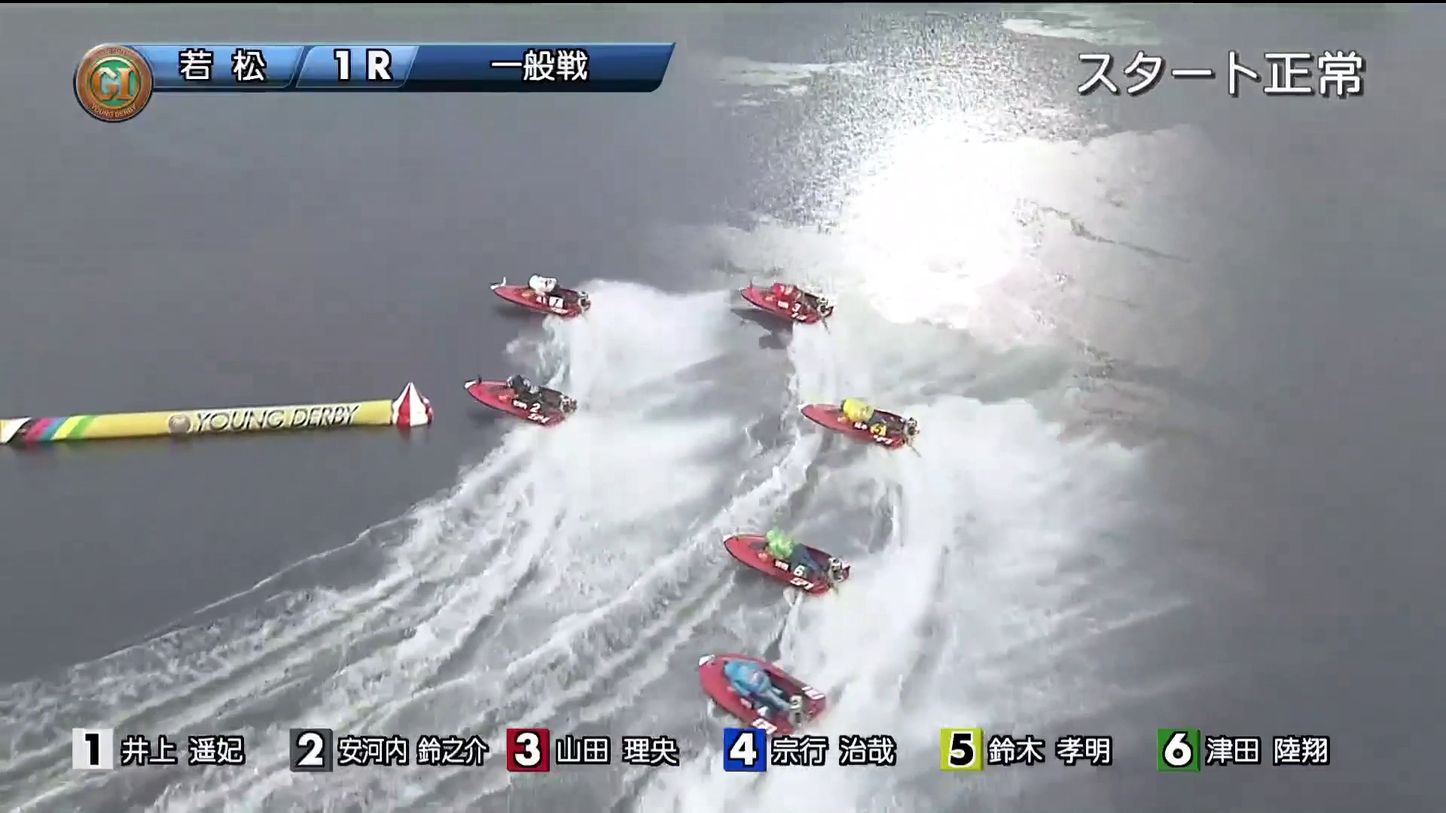１号艇: (484, 287, 554, 340)
２号艇: (439, 373, 568, 433)
３号艇: (736, 277, 834, 323)
４号艇: (707, 530, 841, 595)
５号艇: (700, 666, 823, 721)
６号艇: (802, 381, 901, 461)
